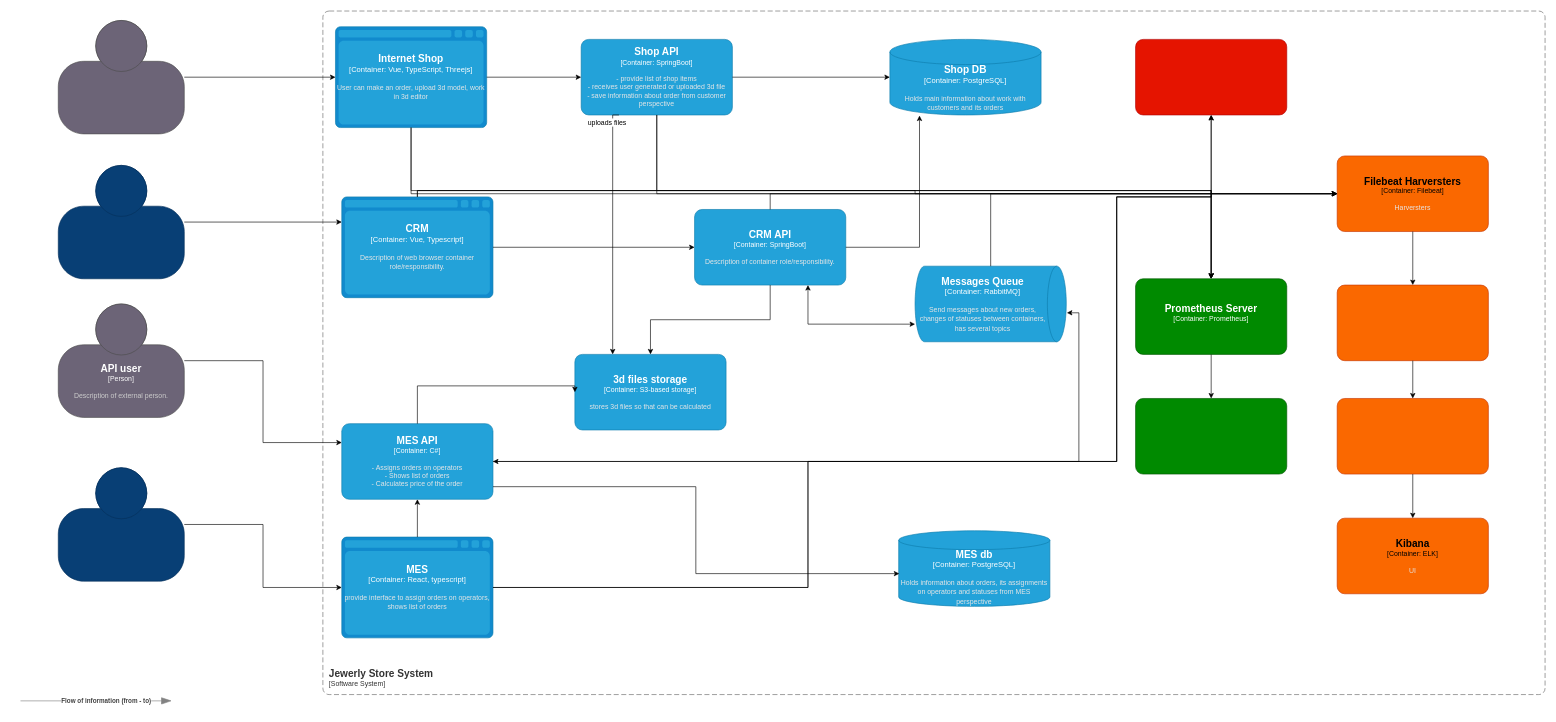
This 1556x722 diagram has some shape labels left out. The centre of each missing label's shape, as x and y in pixels:
"Customer [Person] Description of external person." goes at point (121, 77).
"ElasticSearch [Container: ELK] Storage" goes at point (1412, 436).
"Graphana Server [Container: Graphana]" goes at point (1211, 436).
"Logstash [Container: ELK] Processing" goes at point (1412, 322).
"OpenTelemetry Server [Container: Jaeger]" goes at point (1211, 77).
"Operator [Person] Takes order in work, manufactures jewerly" goes at point (121, 524).
"Seller [Person] Operates with order, confirms manufacturing for the user" goes at point (121, 222).
